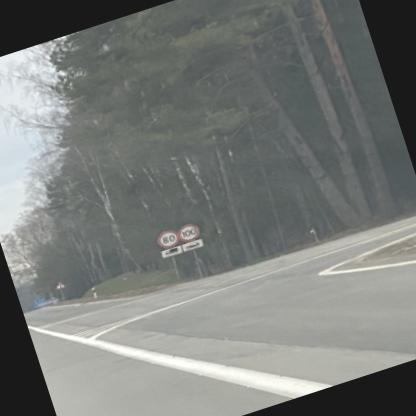speedlimit: (155, 228, 179, 248), (176, 222, 198, 240)
